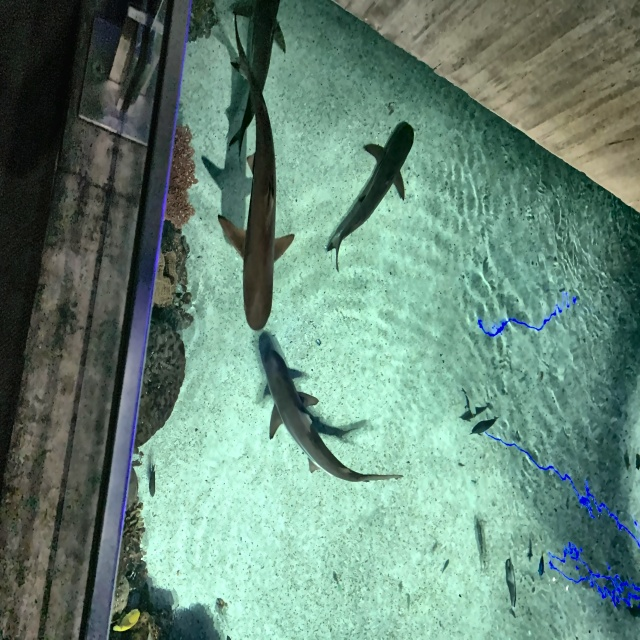fish: (503, 550, 520, 616), (111, 603, 142, 639), (470, 413, 500, 437), (145, 459, 158, 501)
shark: (217, 0, 295, 331), (259, 331, 406, 485), (325, 121, 415, 277), (227, 0, 289, 167)
